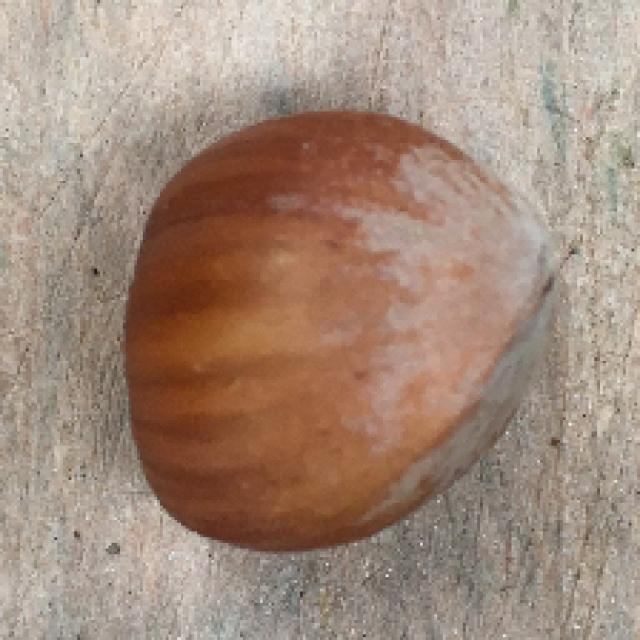qualityHazelnut: (122, 113, 572, 553)
